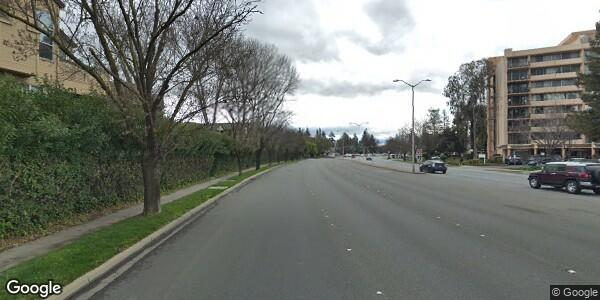Steel_Pole: (392, 76, 433, 175)
